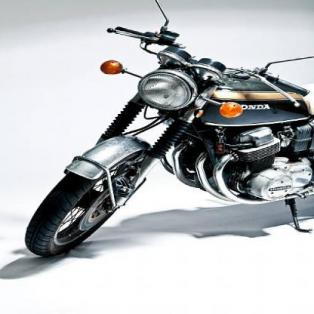Motocicleta: (20, 0, 314, 260)
